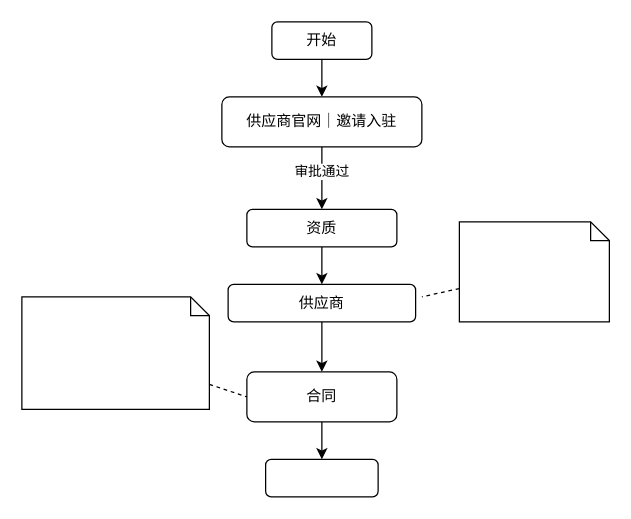
Image size: 631x519. Some labels were removed from this diagram. The shapes that lost their labels are listed below. From the top down, each one's centre as x and y in pixels, then its label:
pixel 533 271: 必备：绑定资质、服务区域、订货信息、结算信息、质保金
pixel 115 352: 框架合同：预签、意向合同 采购合同：正式下单合同，具有法律效益
pixel 321 477: 结束
